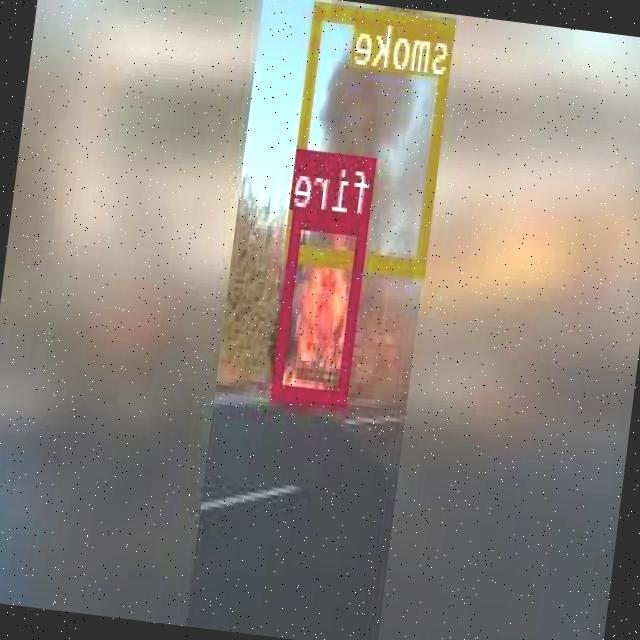fire: (272, 208, 370, 404)
smoke: (286, 0, 457, 275)
